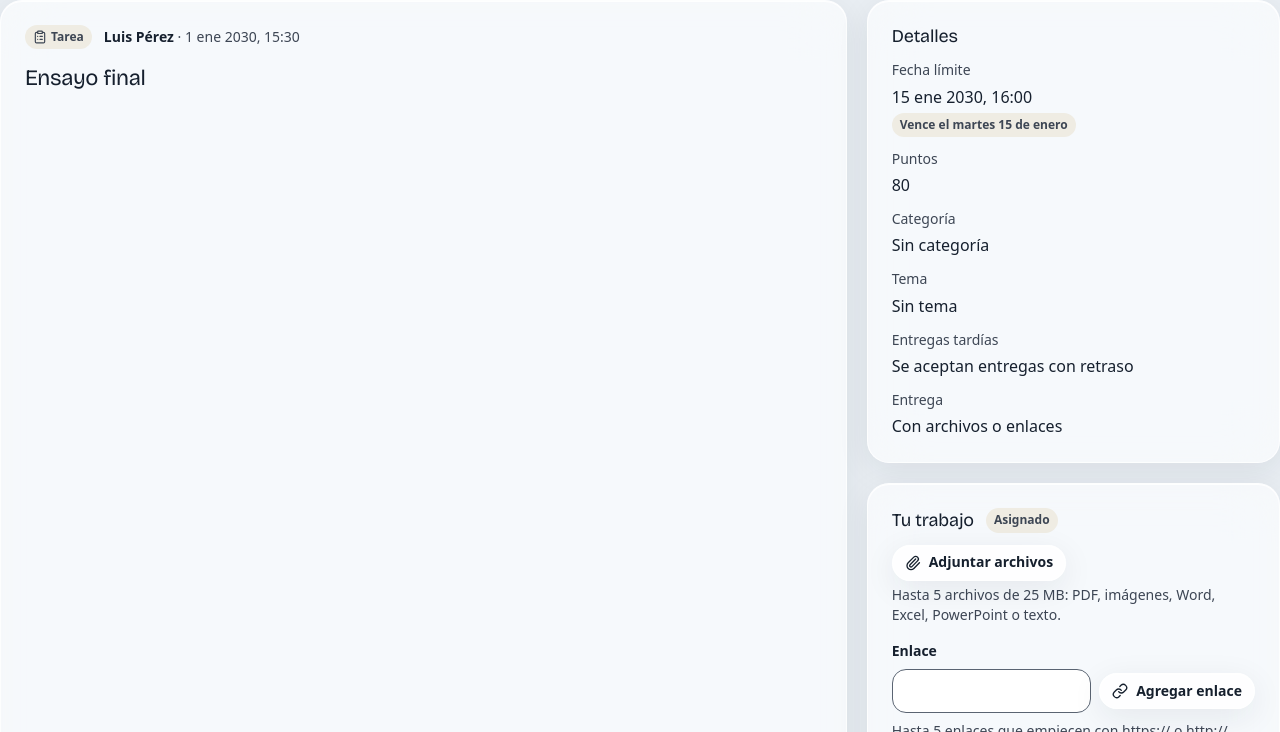
Scenario: ataque ENTREGAS-01d r2: cada código al entregar (qué renueva, qué anuncia, foco) › 409 ENTREGA_YA_REALIZADA: renueva tarea y entrega una vez (true), 1 aviso, foco fuera de <body>
Type "https://ejemplo.com/a" into the field labelled "Enlace".
click(991, 691); type("https://ejemplo.com/a")  # box 892,669 -> 1091,713
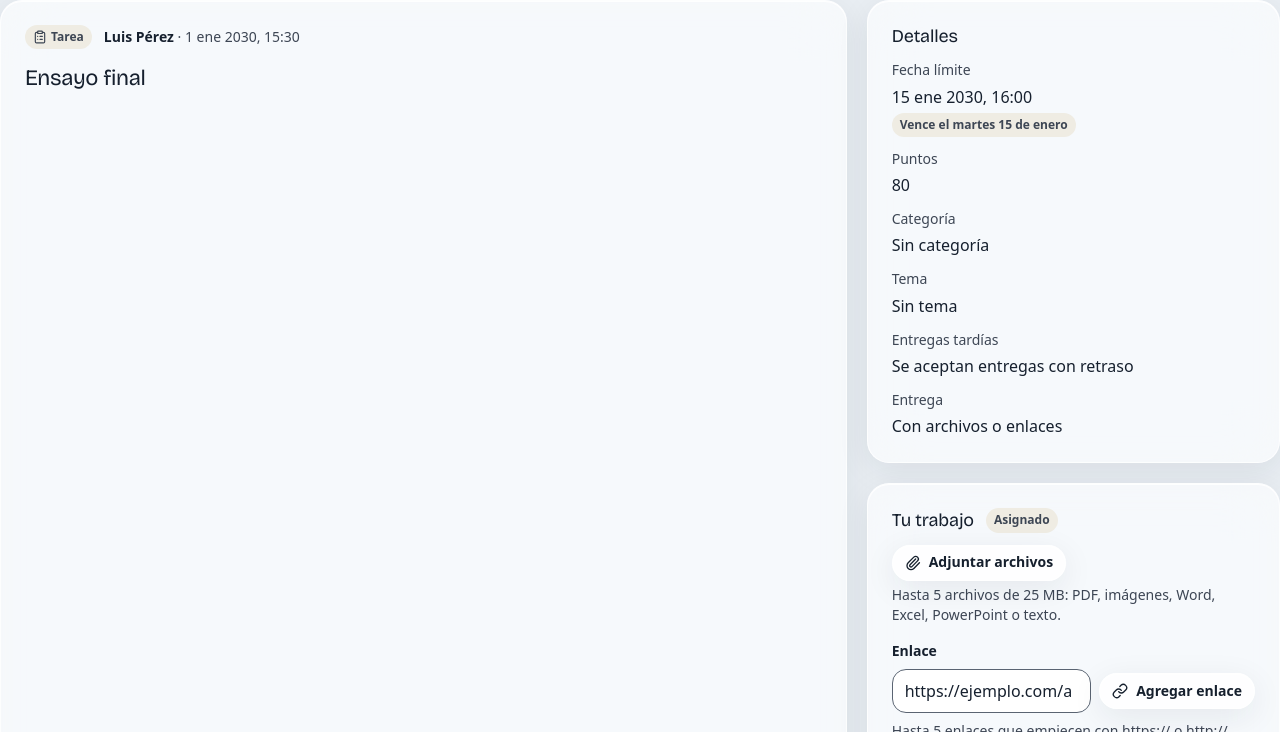
Click the button "Agregar enlace".
click(1177, 691)  # box 1099,673 -> 1255,709
(page scrolled)
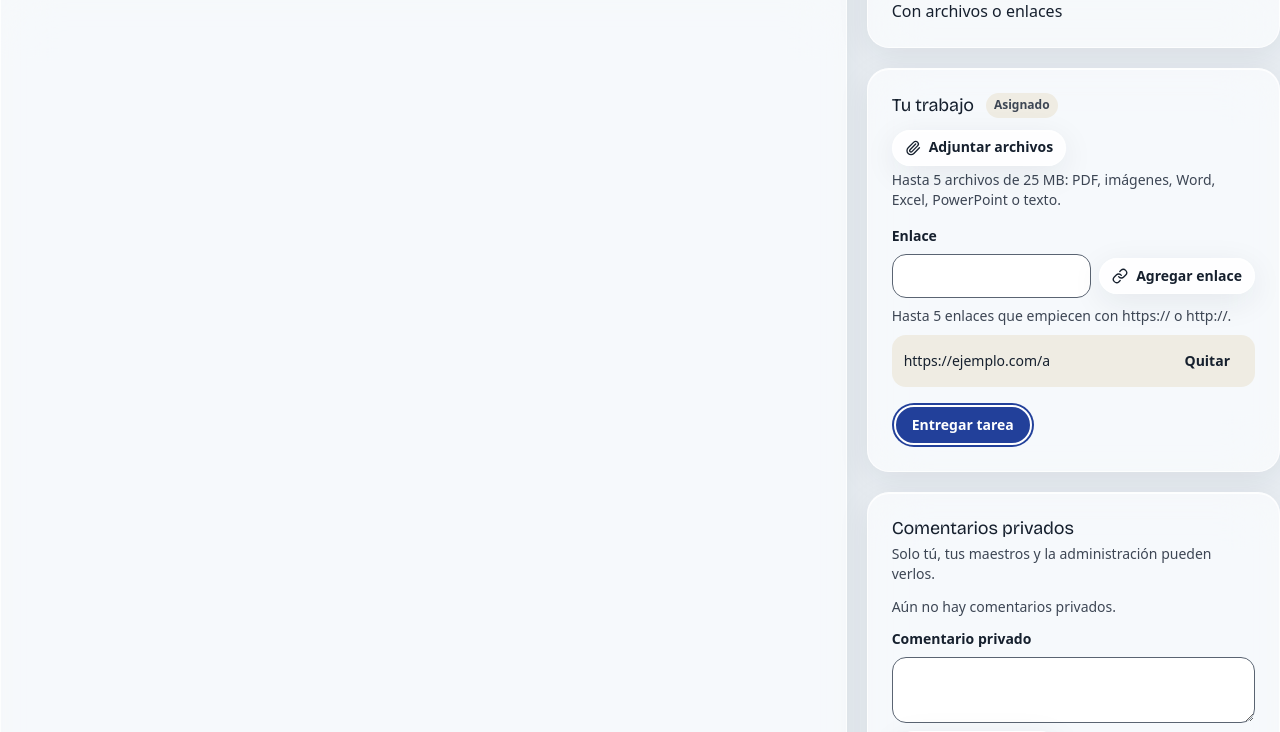
Click the button "Entregar tarea".
click(963, 425)  # box 892,403 -> 1034,447
(page scrolled)
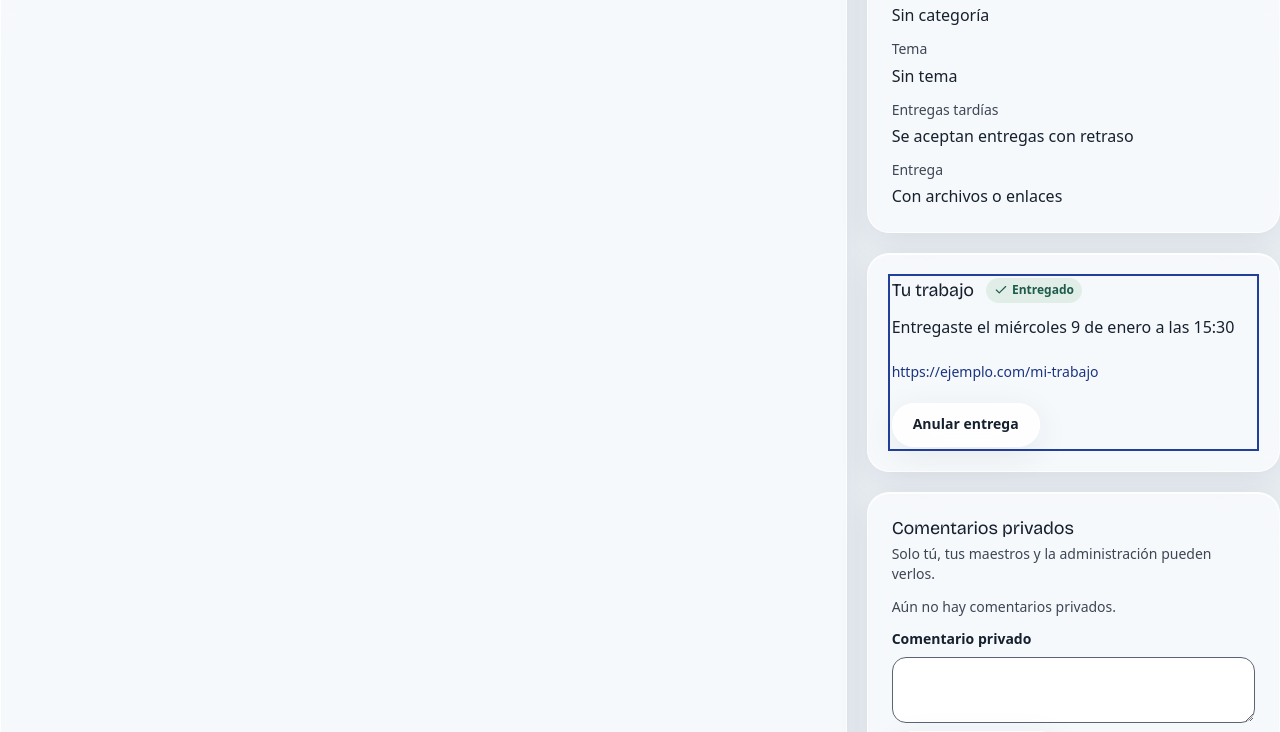
Expected: the element "Tu trabajo" is shown, 892,278 -> 1255,447
Expected: the text "Entregaste el" is shown, 892,316 -> 1234,338
Expected: the text "Asignado" is gone
